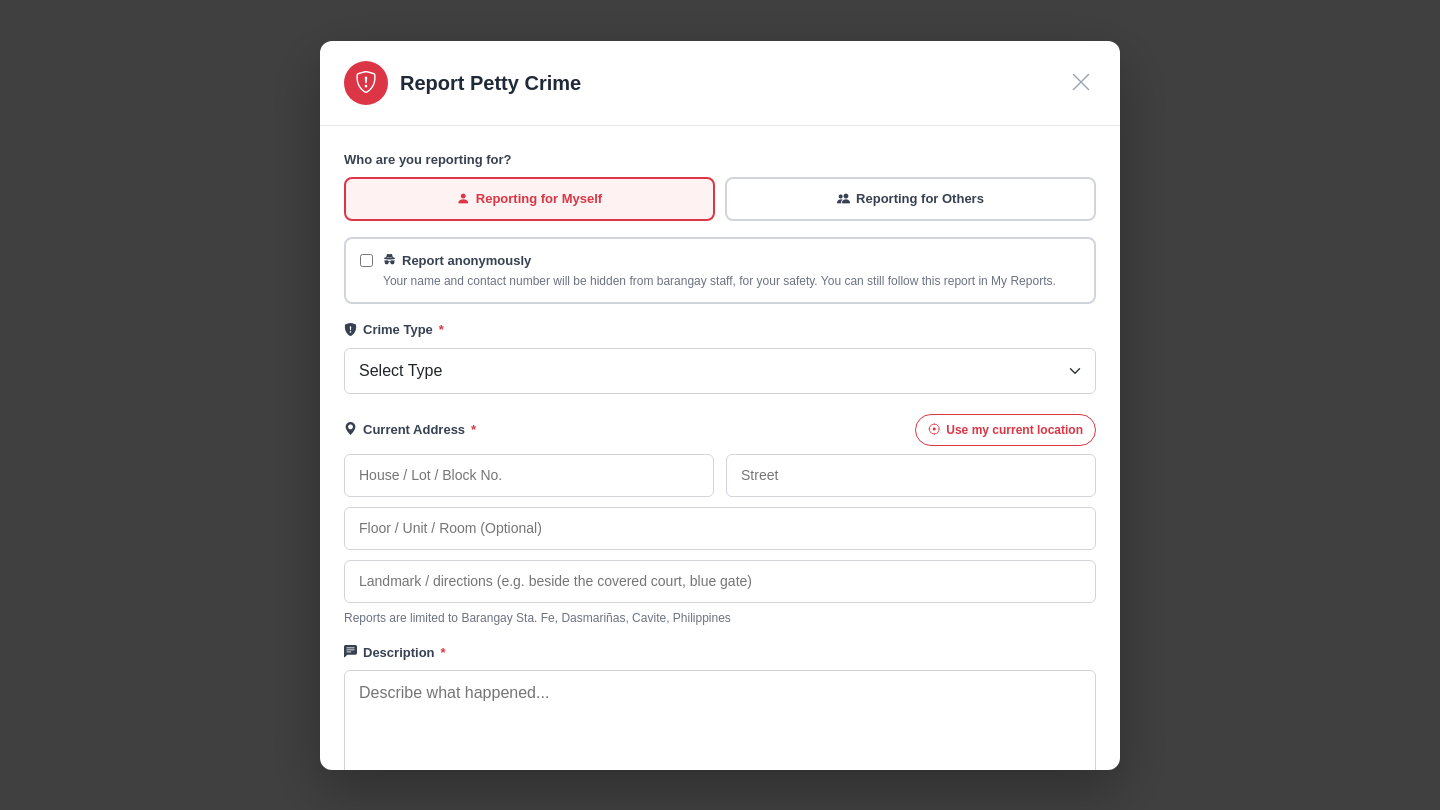
Test: Theft: photo is optional and the report submits without one
Select "Theft" in the dropdown named "crimeType" at x=720, y=370, box [344,348,1096,394]
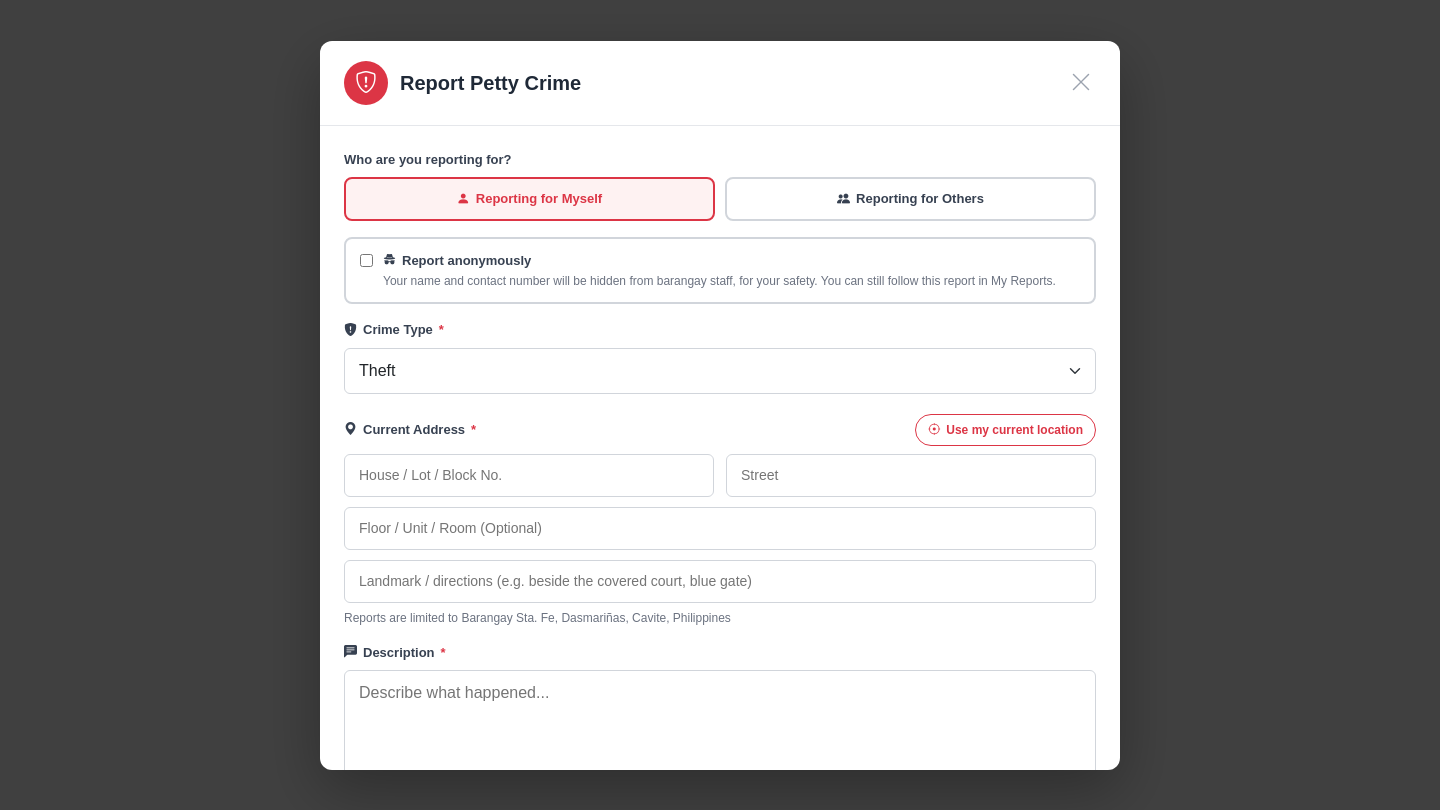
Type "Something happened" into the text box named "description" at x=720, y=729, box [344,670,1096,788]
(page scrolled)
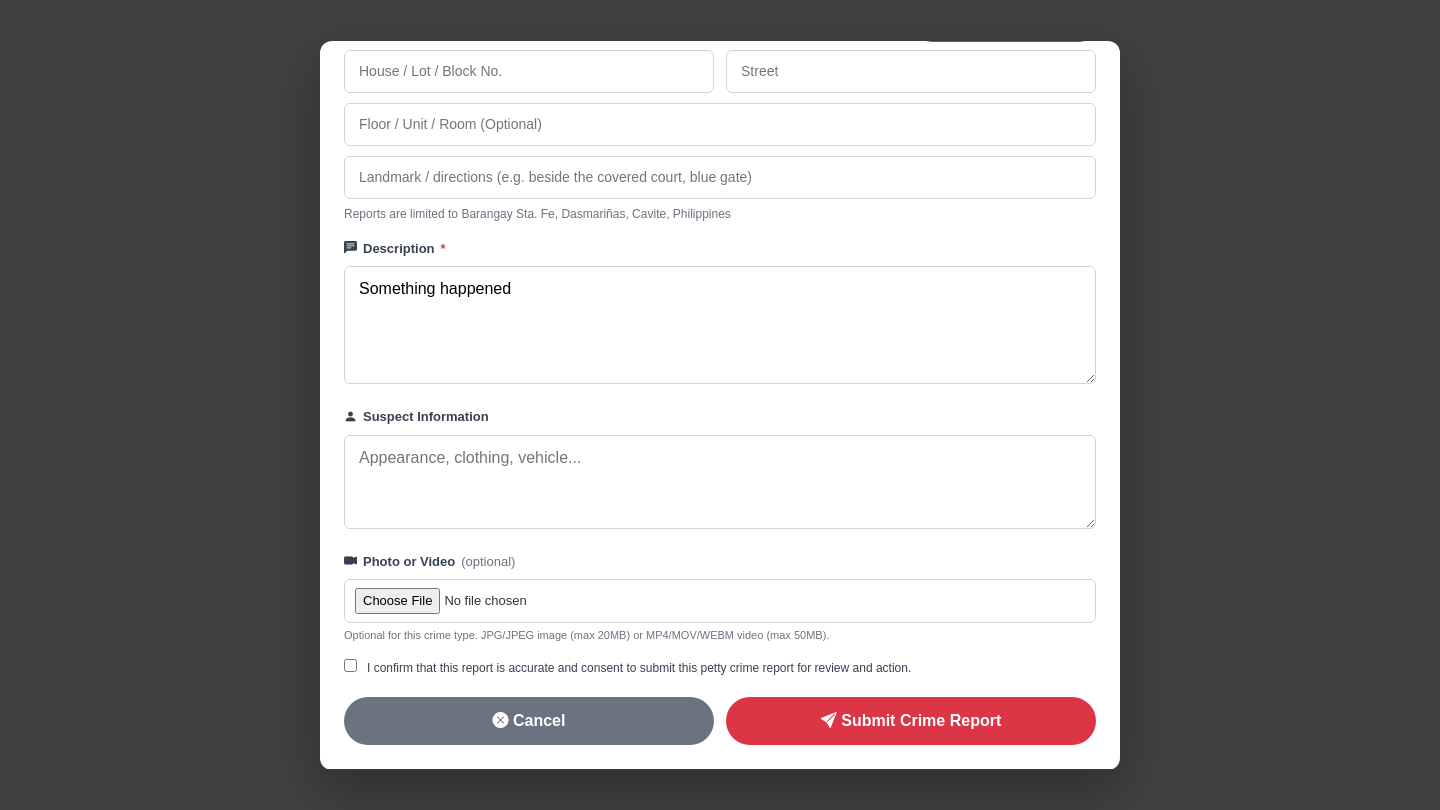
Click the checkbox named "consent" at x=350, y=666, box [344,659,357,672]
(page scrolled)
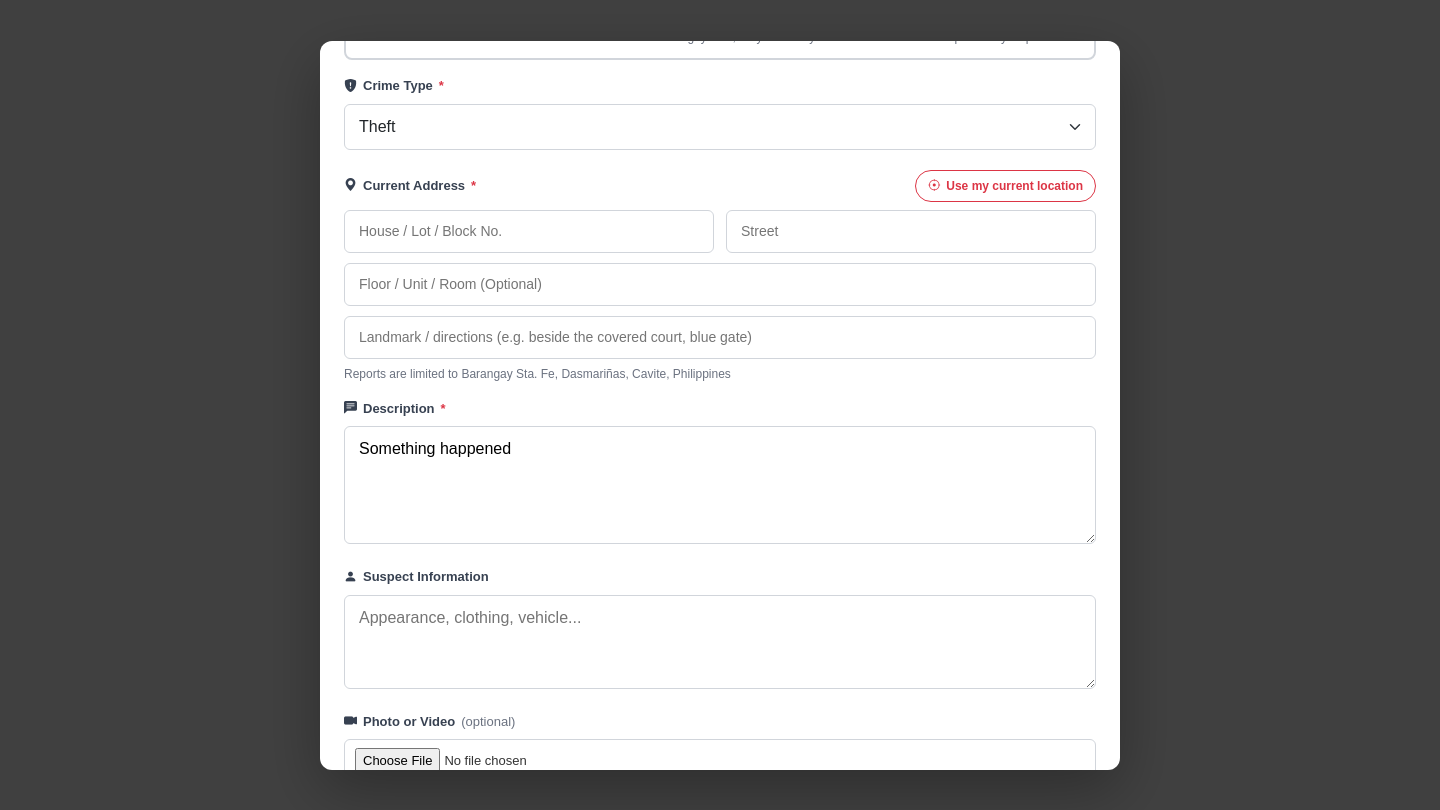
Submit the form
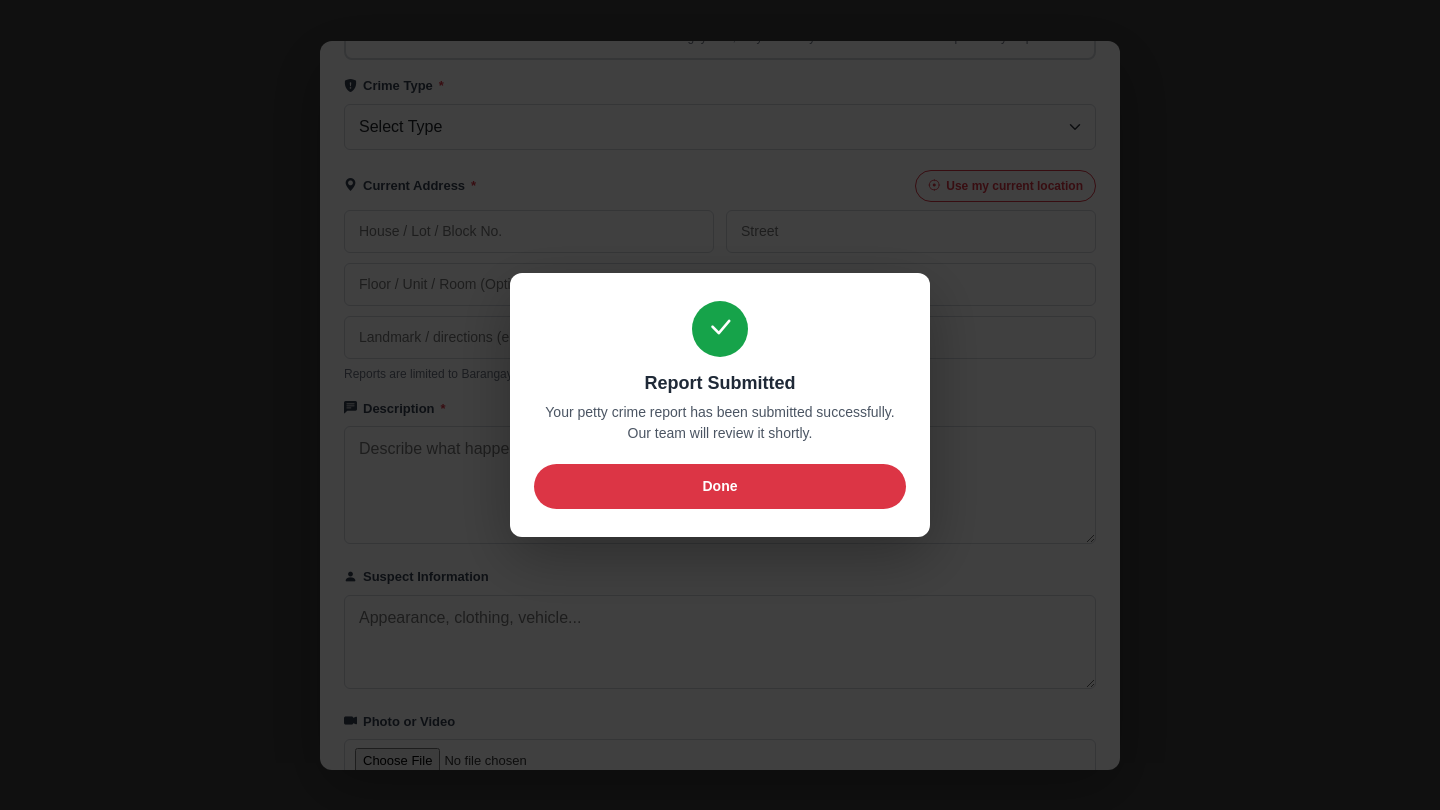
Now the heading "Report Submitted" is shown, box [644,373,796,393]
